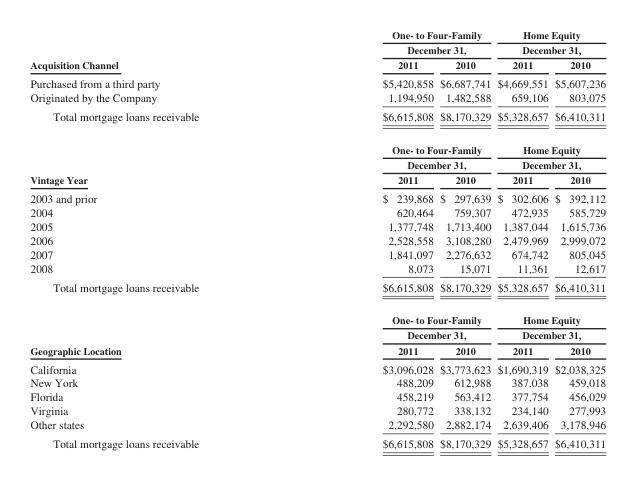table: (29, 28, 605, 449)
table column: (29, 28, 290, 449), (290, 28, 436, 449), (436, 28, 493, 449), (493, 28, 550, 449), (550, 28, 605, 449)
table column header: (29, 28, 605, 73)
table row: (29, 28, 605, 57), (29, 106, 605, 133), (29, 277, 605, 303), (29, 303, 605, 327), (29, 133, 605, 156), (29, 73, 605, 90), (29, 188, 605, 205), (29, 260, 605, 277), (29, 342, 605, 359), (29, 57, 605, 73), (29, 90, 605, 106), (29, 156, 605, 172), (29, 172, 605, 188), (29, 359, 605, 375), (29, 417, 605, 433), (29, 433, 605, 449), (29, 327, 605, 342), (29, 205, 605, 219), (29, 232, 605, 246), (29, 246, 605, 260), (29, 375, 605, 389), (29, 389, 605, 403), (29, 403, 605, 417), (29, 219, 605, 232)
table spanning cell: (29, 28, 290, 73), (290, 28, 493, 57), (290, 303, 493, 327), (290, 133, 493, 156), (493, 28, 605, 57), (290, 156, 493, 172), (290, 327, 493, 342), (493, 303, 605, 327), (493, 133, 605, 156), (493, 156, 605, 172), (493, 327, 605, 342)
